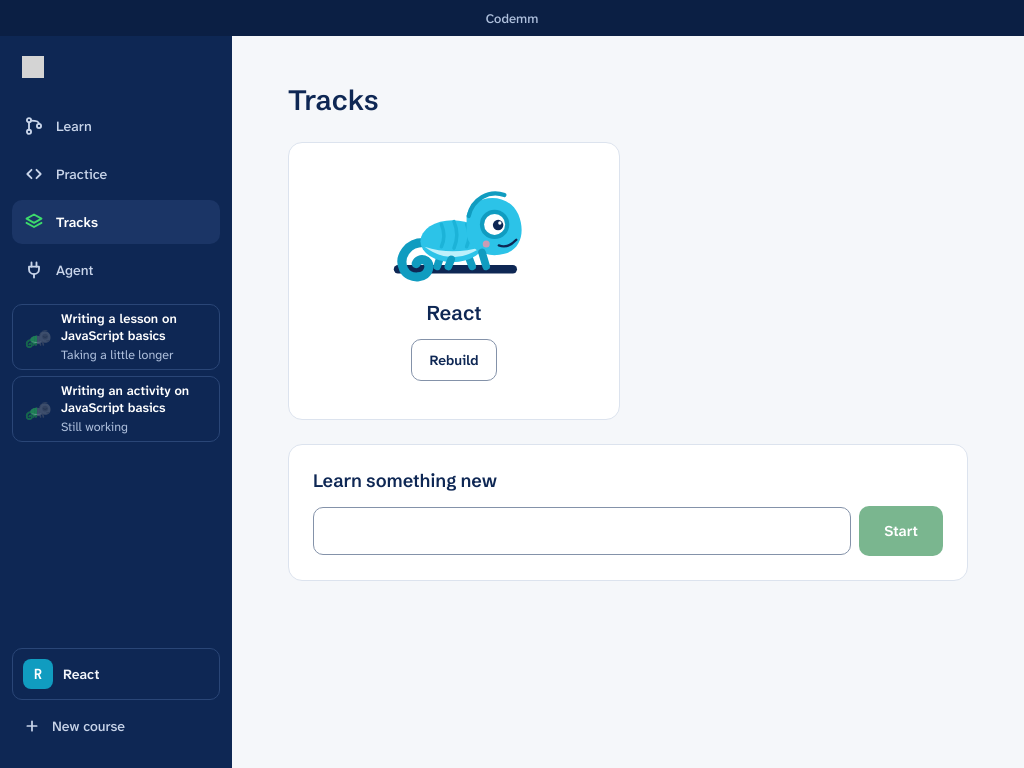
it: running jobs in the sidebar (§4.11) › names each long job and its stage, and opens the place it belongs to
Expected: the heading "Tracks" is shown, [288,83,379,117]
Click the button "Writing a lesson on JavaScript basics Taking a little longer".
click(116, 337)  # box [12,304,220,370]
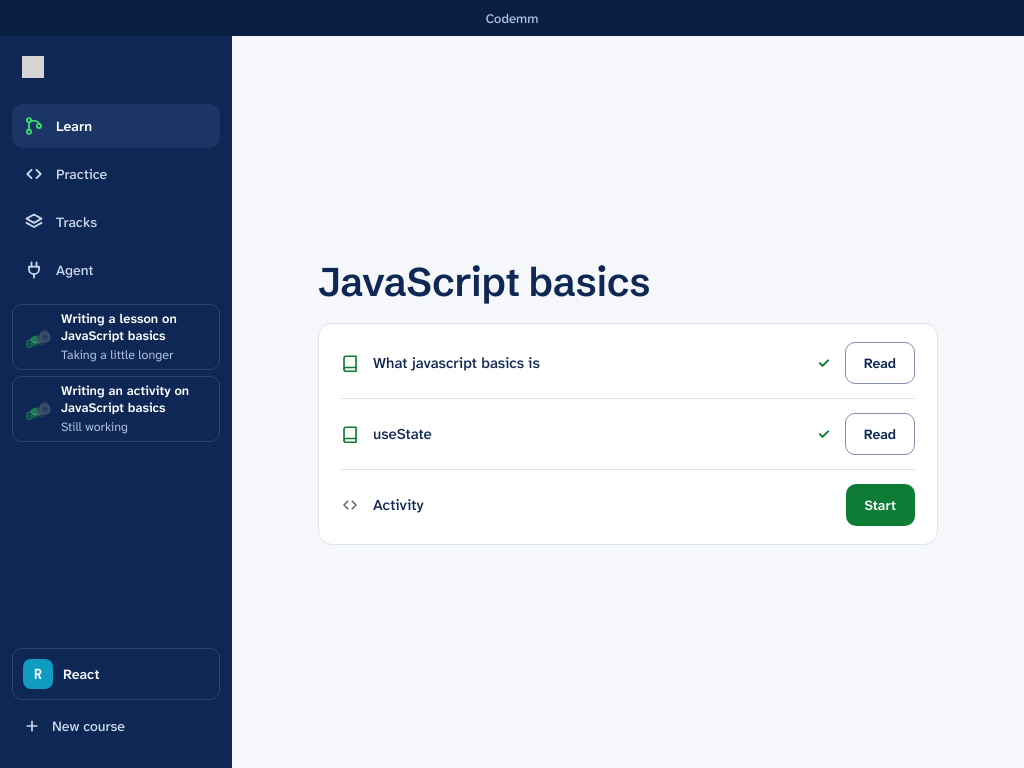
Expected: the heading "JavaScript basics" is shown, [318,257,650,306]
